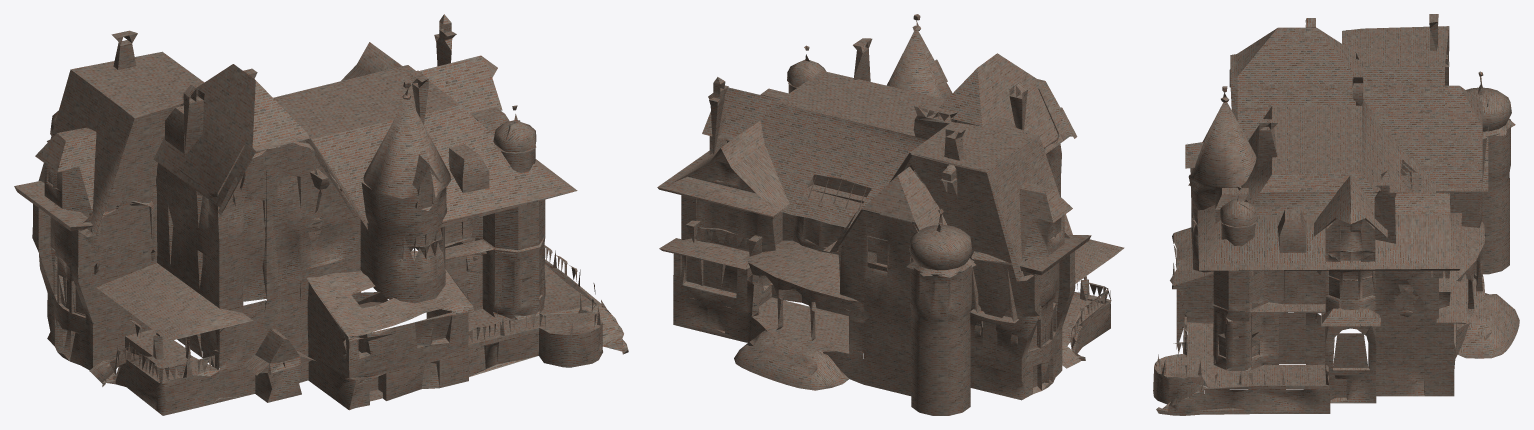
File: mansion poly reduced 01.FBX
3 views of the same model, side by side, from view 1: azimuth 30°, elevation 25°; view 2: azimuth 150°, elevation 25°; view 3: azimuth 270°, elevation 25° (orthographic). The views are drawn at different scales.
Visible parts, largest first — view 1: Part_1_009; view 2: Part_1_009; view 3: Part_1_009.
Boxes of the visible parts, x1=… form: Part_1_009: x1=14, y1=14, x2=628, y2=415; Part_1_009: x1=657, y1=14, x2=1124, y2=415; Part_1_009: x1=1153, y1=14, x2=1519, y2=415.
Bounding box in the file's own units: 385 × 239 × 309.
